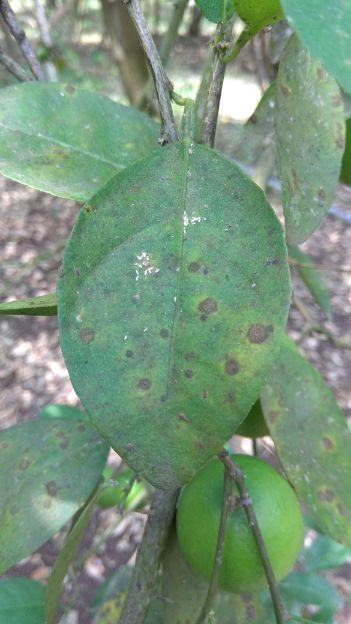Myzus persicae: (135, 252, 157, 275), (184, 211, 199, 232)
